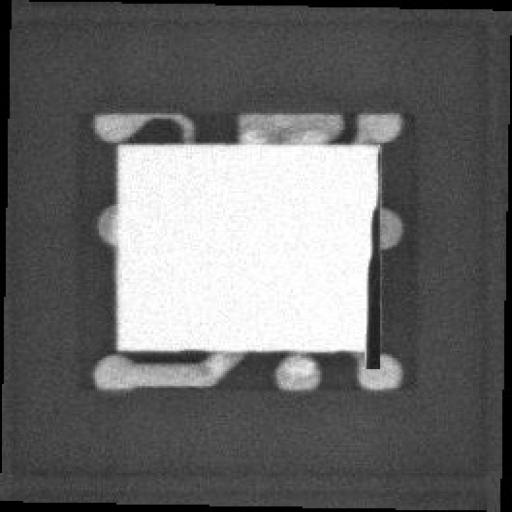DIE_BROKEN: (355, 200, 380, 368)
